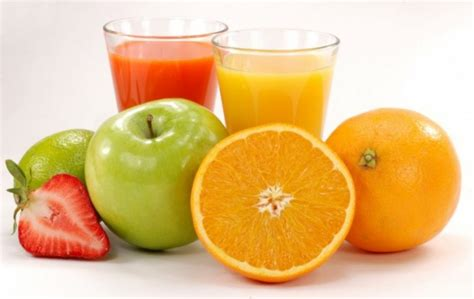apple: (80, 93, 241, 254)
orange: (316, 106, 466, 255)
